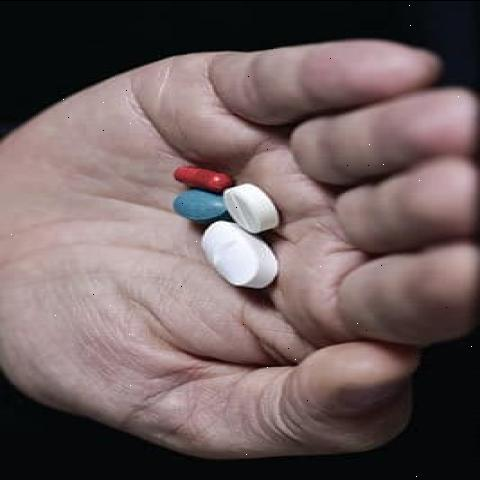Pill: (184, 221, 290, 296), (215, 178, 298, 236)
